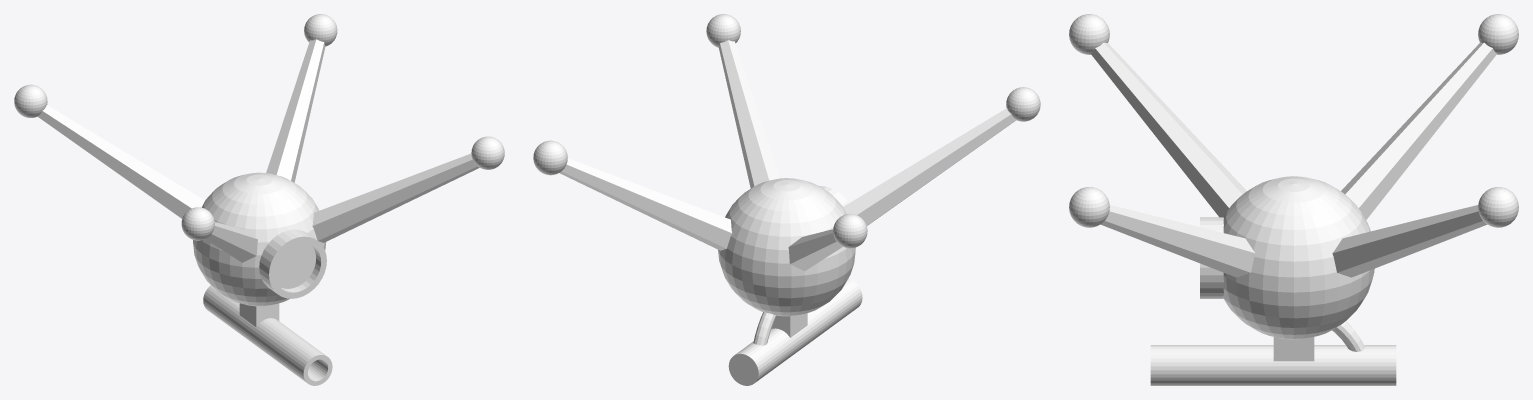
Rendered from Drone.obj.
3 renders of one model, left to right at view 1: azimuth 30°, elevation 25°; view 2: azimuth 150°, elevation 25°; view 3: azimuth 270°, elevation 25°, orthographic. The views are drawn at different scales.
Visible parts, largest first — view 1: 球_球.005, 円柱.006_円柱.011, 円柱.002_円柱.007, 円柱.004_円柱.009, 円柱.003_円柱.008, 円柱_円柱.005, 円柱.001_円柱.006, 円柱.005_円柱.010, 球.002_球.007, 球.003_球.008, 球.001_球.006, 球.004_球.009 (+1 smaller); view 2: 球_球.005, 円柱.003_円柱.008, 円柱.005_円柱.010, 円柱.002_円柱.007, 円柱.006_円柱.011, 円柱.004_円柱.009, 球.004_球.009, 球.001_球.006, 球.002_球.007, 球.003_球.008, 立方体_立方体.003, Torus.003; view 3: 球_球.005, 円柱.002_円柱.007, 円柱.004_円柱.009, 円柱.005_円柱.010, 円柱.003_円柱.008, 円柱.006_円柱.011, 球.003_球.008, 球.004_球.009, 球.001_球.006, 球.002_球.007, 円柱_円柱.005, 立方体_立方体.003 (+1 smaller).
Part boxes in pixels (x1,y1,x2,y2): 球_球.005: [193, 172, 326, 306]; 円柱.006_円柱.011: [312, 153, 479, 242]; 円柱.002_円柱.007: [203, 285, 332, 385]; 円柱.004_円柱.009: [37, 105, 204, 218]; 円柱.003_円柱.008: [266, 39, 325, 182]; 円柱_円柱.005: [259, 229, 326, 298]; 円柱.001_円柱.006: [274, 243, 315, 288]; 円柱.005_円柱.010: [205, 222, 257, 262]; 球.002_球.007: [181, 207, 214, 240]; 球.003_球.008: [471, 136, 504, 169]; 球.001_球.006: [14, 84, 47, 117]; 球.004_球.009: [304, 14, 337, 46]; 球_球.005: [718, 178, 855, 316]; 円柱.003_円柱.008: [559, 158, 732, 250]; 円柱.005_円柱.010: [843, 108, 1016, 225]; 円柱.002_円柱.007: [728, 278, 862, 385]; 円柱.006_円柱.011: [718, 40, 779, 188]; 円柱.004_円柱.009: [788, 229, 842, 271]; 球.004_球.009: [533, 140, 567, 175]; 球.001_球.006: [833, 213, 867, 248]; 球.002_球.007: [1006, 87, 1040, 121]; 球.003_球.008: [706, 14, 740, 47]; 立方体_立方体.003: [771, 313, 807, 337]; Torus.003: [753, 312, 776, 345]; 球_球.005: [1223, 176, 1374, 339]; 円柱.002_円柱.007: [1150, 345, 1396, 385]; 円柱.004_円柱.009: [1341, 42, 1496, 219]; 円柱.005_円柱.010: [1091, 42, 1246, 217]; 円柱.003_円柱.008: [1332, 205, 1487, 277]; 円柱.006_円柱.011: [1100, 205, 1255, 277]; 球.003_球.008: [1069, 187, 1109, 227]; 球.004_球.009: [1478, 187, 1518, 227]; 球.001_球.006: [1478, 14, 1518, 54]; 球.002_球.007: [1069, 14, 1109, 54]; 円柱_円柱.005: [1200, 217, 1223, 298]; 立方体_立方体.003: [1273, 337, 1314, 361].
Size of the model in its own units: 5.5 by 3.8 by 5.5.
Materials: 4 (4 with a texture image).
